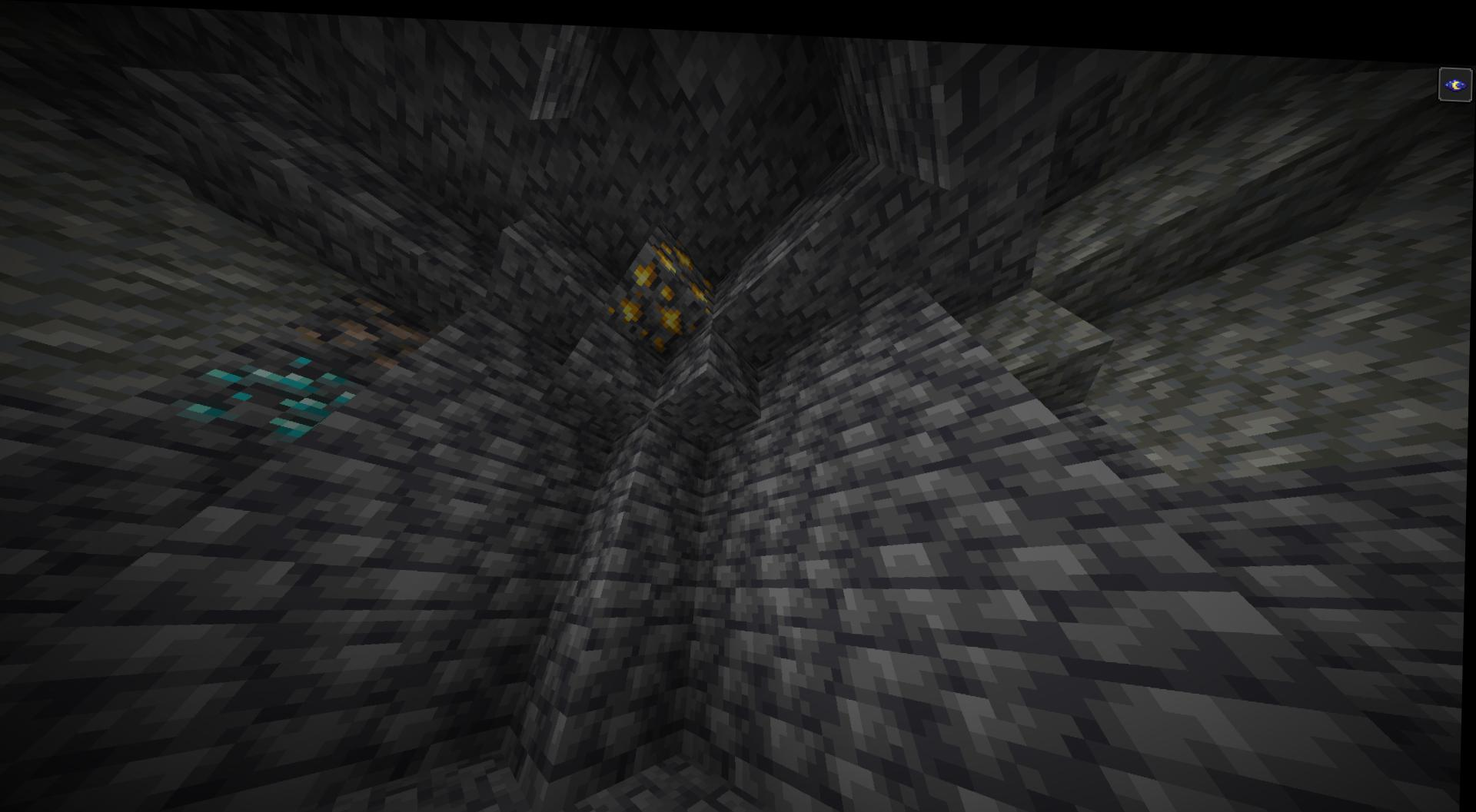diamond ore: (184, 350, 368, 443)
gold ore: (607, 224, 719, 346), (300, 286, 431, 362)
